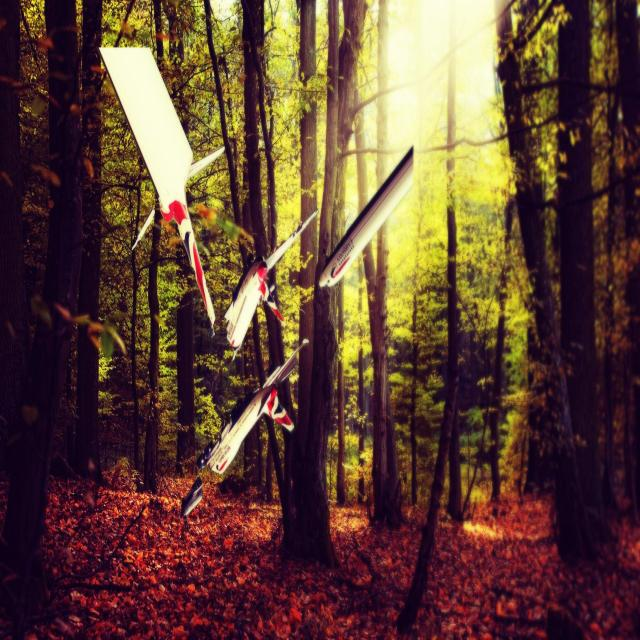airplane: (97, 44, 226, 338), (180, 337, 309, 519), (223, 207, 318, 361), (318, 144, 414, 289)
